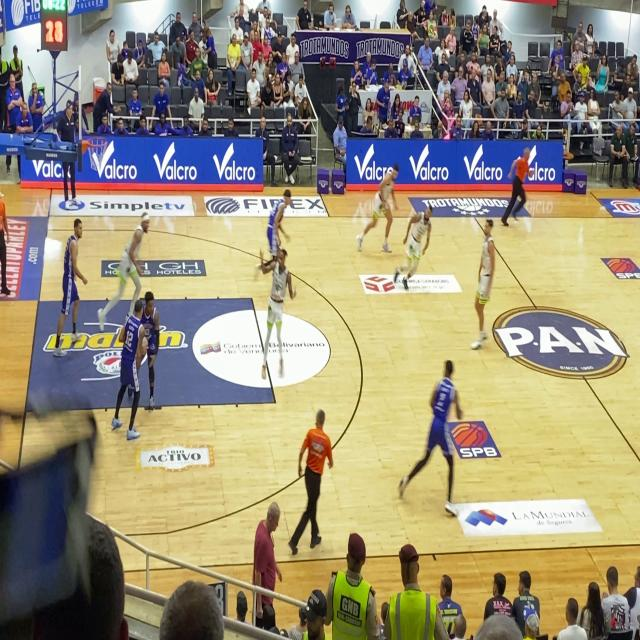referee: (295, 409, 327, 555), (512, 138, 531, 221), (0, 190, 11, 296)
team1: (372, 162, 400, 276), (118, 208, 150, 302), (268, 250, 290, 380), (409, 200, 433, 292), (269, 184, 291, 260), (480, 220, 492, 351), (476, 299, 483, 306), (474, 278, 476, 282)
team2: (411, 356, 468, 516), (118, 297, 146, 442), (135, 286, 165, 408), (58, 212, 84, 343)
ubasket: (86, 133, 108, 172)
